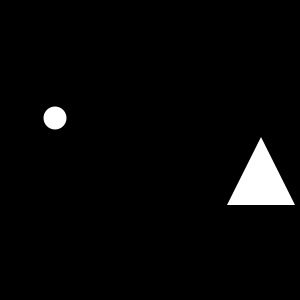rectangle: (44, 106, 66, 130)
triangle: (227, 137, 295, 205)
